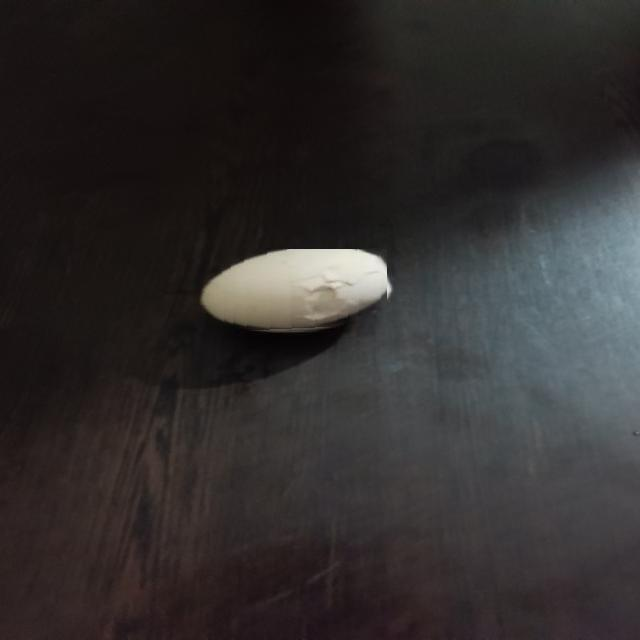biodegradable: (187, 249, 387, 333)
